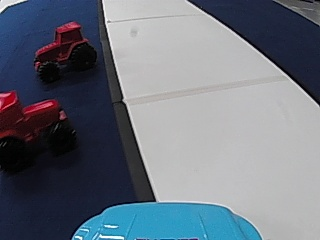Tracktor: (0, 84, 78, 171), (33, 19, 98, 82)
